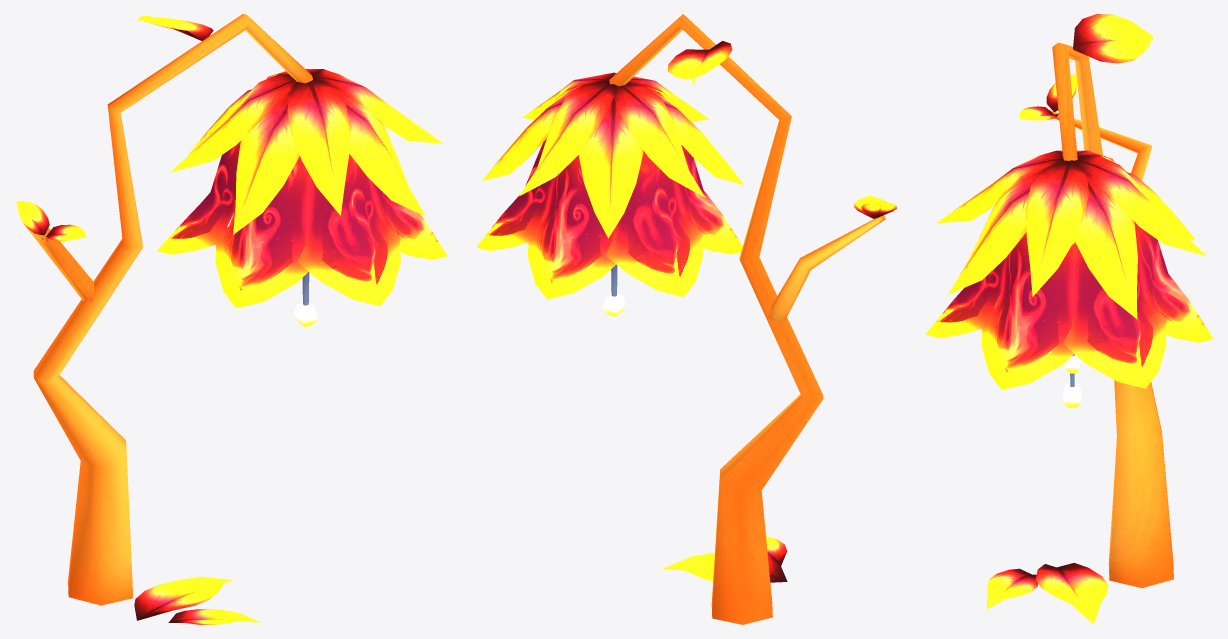
Rendered from bellflower.glb.
The picture shows the model from 3 angles, left to right: view 1: azimuth 30°, elevation 25°; view 2: azimuth 150°, elevation 25°; view 3: azimuth 270°, elevation 25°; orthographic projection. The views are drawn at different scales.
Visible parts, largest first — view 1: Bellflower; view 2: Bellflower; view 3: Bellflower.
Boxes of the visible parts, left/top/right/bottom form: Bellflower: left=14, top=14, right=447, bottom=624; Bellflower: left=476, top=14, right=896, bottom=624; Bellflower: left=925, top=14, right=1213, bottom=624.
Size of the model in its own units: 0.3329 by 0.45 by 0.2025.
1 material, 1 textured.
